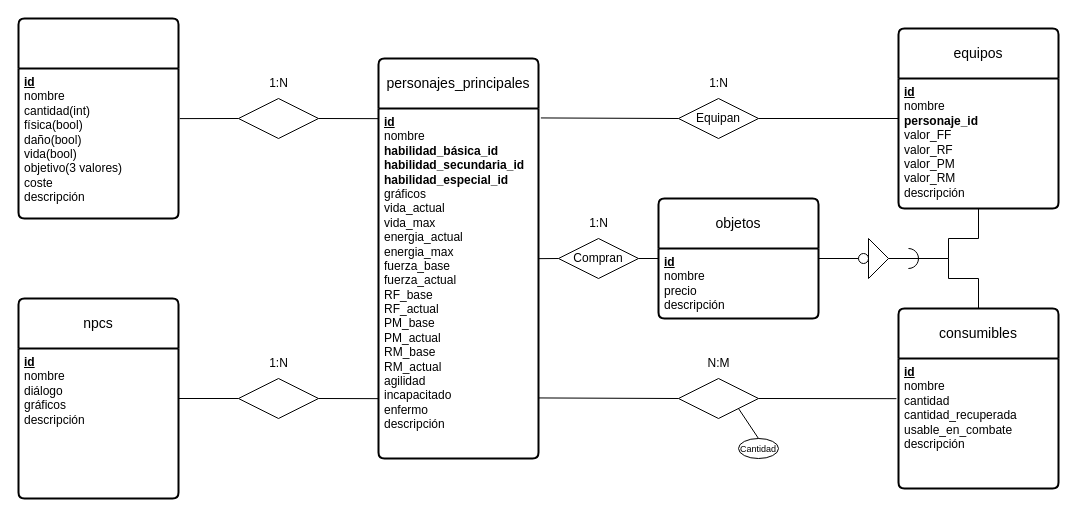
Image size: 1076x516. Some labels were removed from this diagram. Here are the shapes that lost their labels. From the top down, the box of each, then its label:
(17, 17, 179, 219): habilidades
(238, 98, 318, 138): Usan
(238, 378, 318, 418): Interactuan
(678, 378, 758, 418): Tienen
